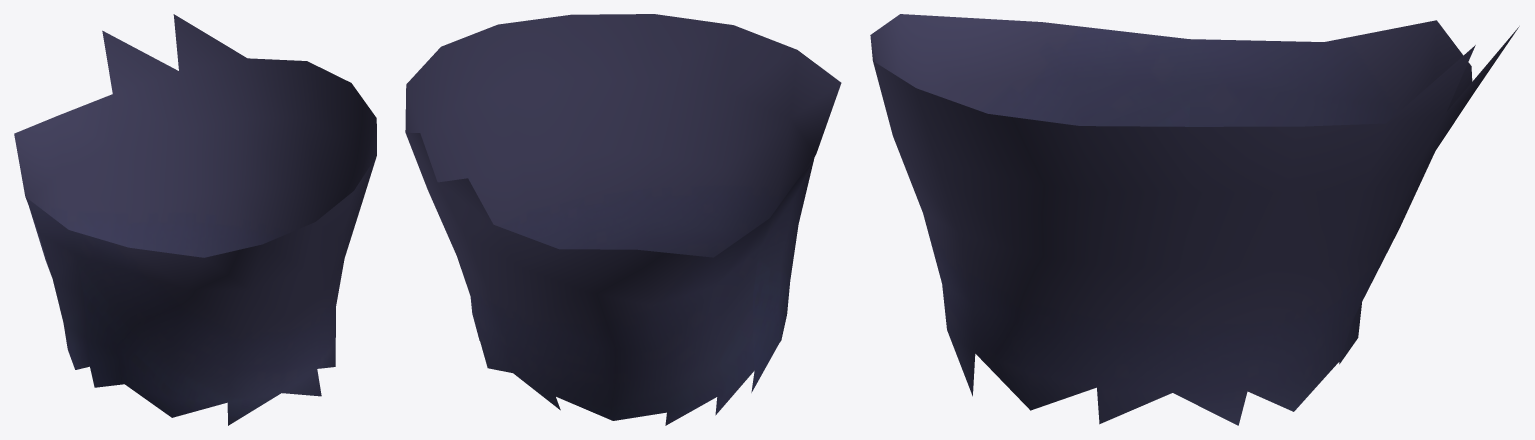
Rendered from crazydave_muslo_izq.obj.
The picture shows the model from 3 angles, left to right: view 1: azimuth 30°, elevation 25°; view 2: azimuth 150°, elevation 25°; view 3: azimuth 270°, elevation 25°; orthographic projection. The views are drawn at different scales.
Parts seen in each view (by area): view 1: crazydave_muslo_izq; view 2: crazydave_muslo_izq; view 3: crazydave_muslo_izq.
Boxes of the visible parts, x1,y1,x2,y2 form: crazydave_muslo_izq: [14, 14, 376, 425]; crazydave_muslo_izq: [405, 14, 841, 425]; crazydave_muslo_izq: [870, 14, 1519, 425].
Size of the model in its own units: 0.3327 by 0.29 by 0.4517.
